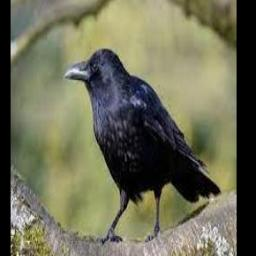Crow: (64, 49, 221, 244)
